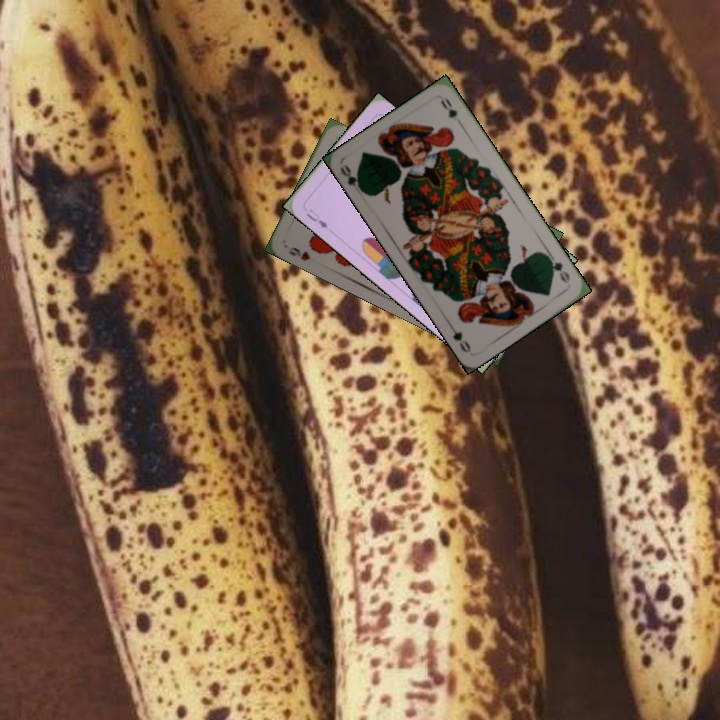EU: (302, 205, 331, 231)
GO: (336, 161, 368, 196), (544, 250, 572, 286)
H9: (285, 243, 313, 264)
